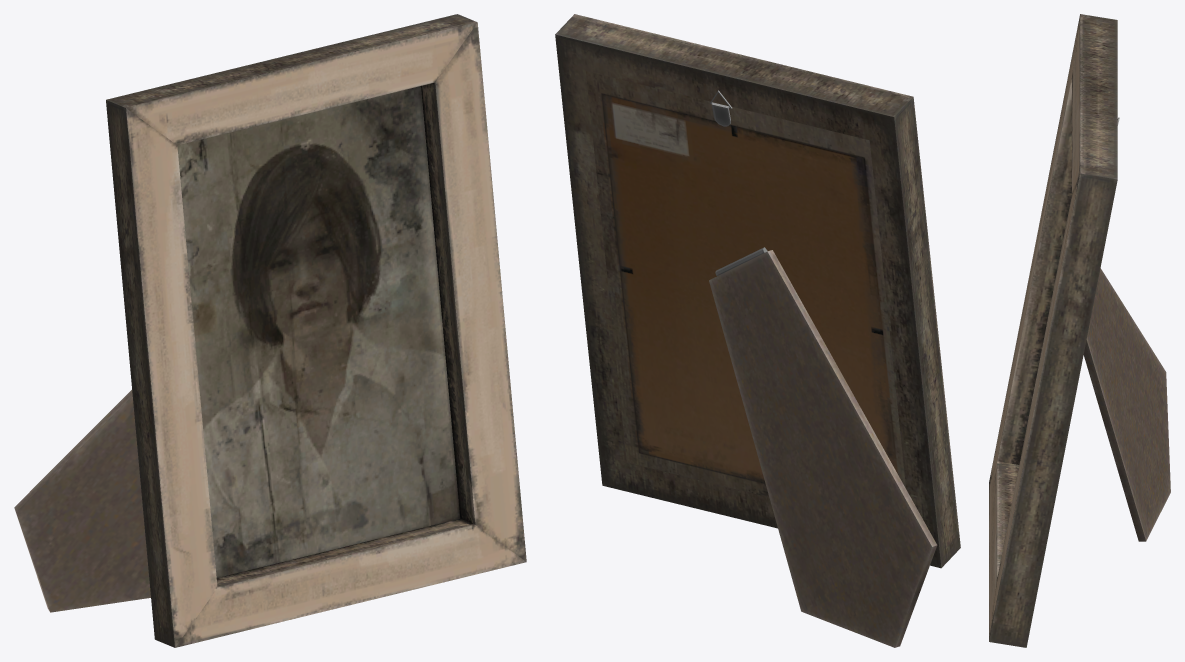
Rendered from photoFrameTable02_b.FBX.
3 views of the same model, side by side, from view 1: azimuth 30°, elevation 25°; view 2: azimuth 150°, elevation 25°; view 3: azimuth 270°, elevation 25° (orthographic). The views are drawn at different scales.
Parts seen in each view (by area): view 1: SM_PhotoFrameTable02; view 2: SM_PhotoFrameTable02; view 3: SM_PhotoFrameTable02.
Part boxes in pixels (<box>): SM_PhotoFrameTable02: <box>14,14,526,647</box>; SM_PhotoFrameTable02: <box>555,14,960,647</box>; SM_PhotoFrameTable02: <box>989,14,1170,647</box>.
Bounding box in the file's own units: 22.63 × 27.36 × 9.16.
Materials: 1 (1 with a texture image).
